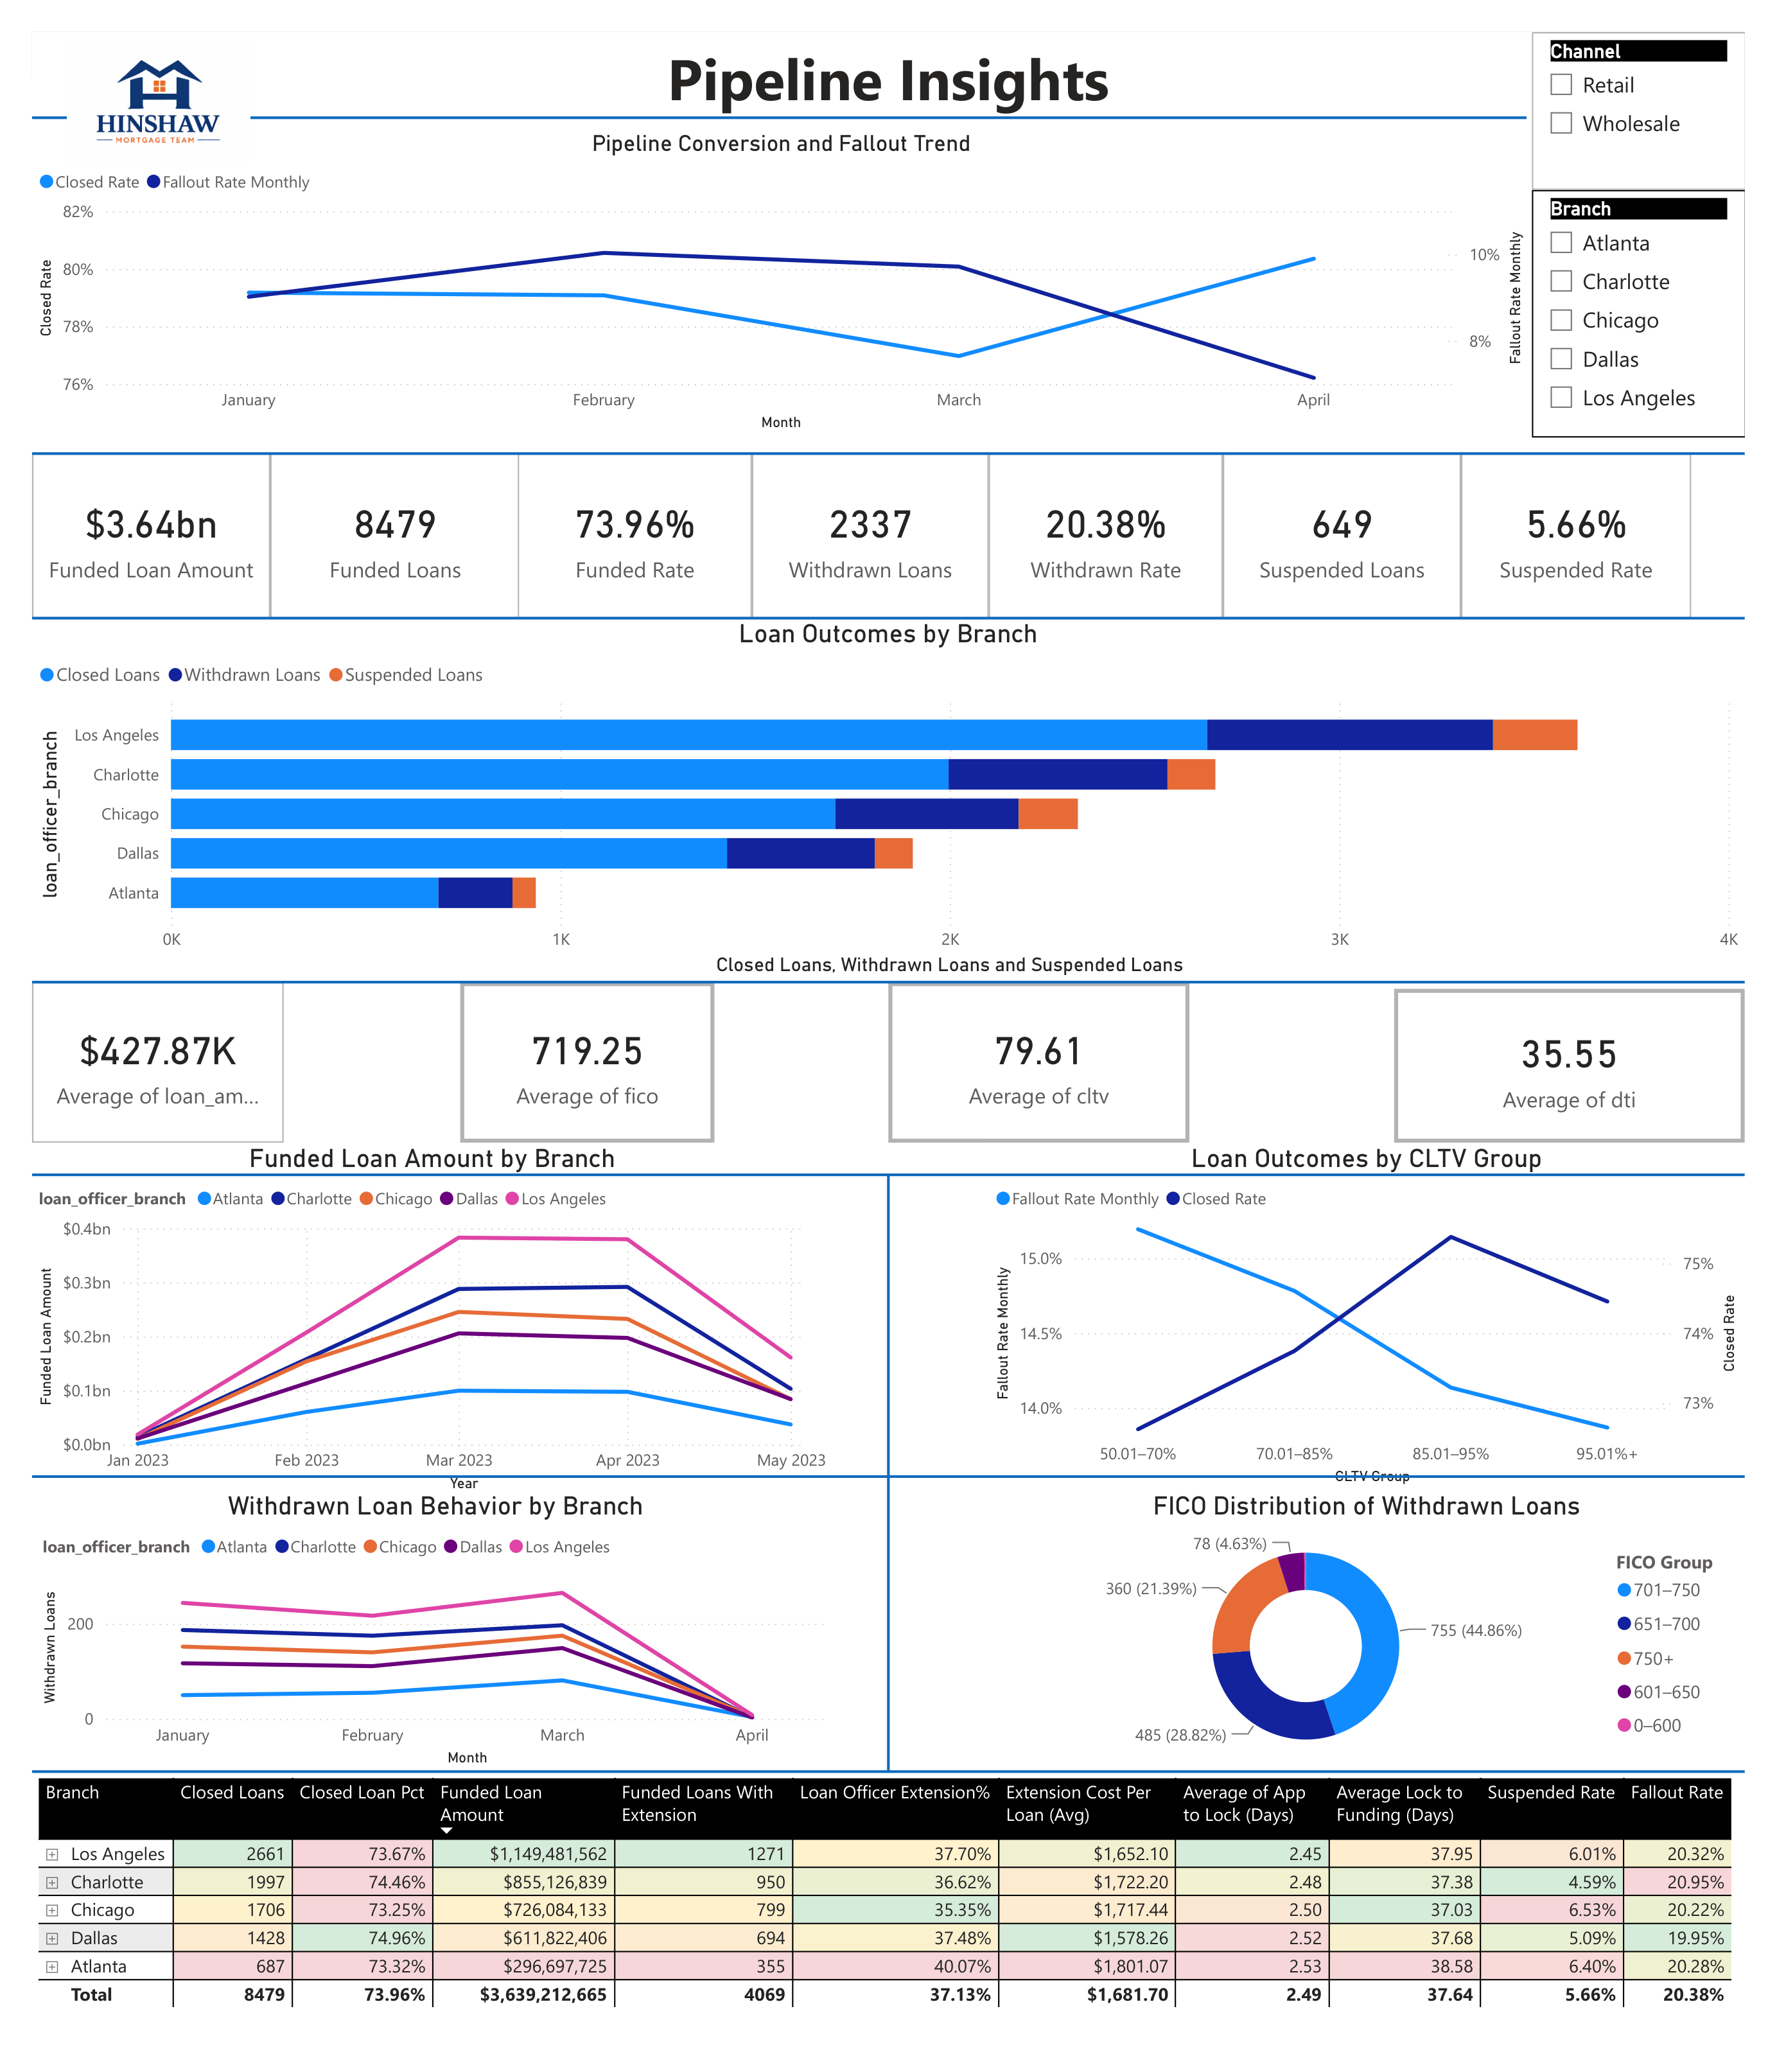

The page's visual inventory and layout, read from the dashboard file:
{"tool":"powerbi","page":{"name":"Pipeline Insights","canvas":[1280,1500],"ordinal":2},"visuals":[{"type":"pivotTable","fields":{"Rows":["public loan_extension_model.loan_officer_branch","public loan_extension_model.loan_officer"],"Values":["public loan_extension_model.Closed Loans","public loan_extension_model.Funded Rate","public loan_extension_model.Funded Loan Amount","public loan_extension_model.Funded Loans With Extension","public loan_extension_model.Loan Officer Extension%","Avg(public loan_extension_model.total_extension_cost)","Avg(public loan_extension_model.Days to Lock)","Avg(public loan_extension_model.Days Lock to Funding)","public loan_extension_model.Suspended Rate","public loan_extension_model.Fallout Rate"]},"box":[0,1300,1280,200],"z":0},{"type":"textbox","box":[0,0,1280.2,80.7],"z":1000},{"type":"card","fields":{"Values":["public loan_extension_model.Closed Loans"]},"box":[177.5,315,187.5,122.5],"z":2000},{"type":"card","fields":{"Values":["public loan_extension_model.Funded Loan Amount"]},"box":[0,315,177.5,122.5],"z":3000},{"type":"card","fields":{"Values":["public loan_extension_model.Funded Rate"]},"box":[362.5,315,175,122.5],"z":4000},{"type":"card","fields":{"Values":["public loan_extension_model.Withdrawn Loans"]},"box":[537.5,315,177.5,122.5],"z":5000},{"type":"card","fields":{"Values":["public loan_extension_model.Fallout Rate"]},"box":[715,315,175,122.5],"z":6000},{"type":"card","fields":{"Values":["public loan_extension_model.Suspended Loans"]},"box":[890,315,177.5,122.5],"z":7000},{"type":"card","fields":{"Values":["public loan_extension_model.Suspended Rate"]},"box":[1067.5,315,172.5,122.5],"z":8000},{"type":"slicer","fields":{"Values":["public loan_extension_model.loan_officer_branch"]},"box":[1120.5,118.2,160.1,184.7],"z":9000},{"type":"slicer","title":"Channel","fields":{"Values":["public loan_extension_model.channel"]},"box":[1120.5,0,160.1,118.2],"z":10000},{"type":"barChart","title":"Loan Outcomes by Branch","fields":{"Category":["public loan_extension_model.loan_officer_branch"],"Y":["public loan_extension_model.Closed Loans","public loan_extension_model.Withdrawn Loans","public loan_extension_model.Suspended Loans"]},"box":[0,437.5,1280,272.5],"z":11000},{"type":"card","fields":{"Values":["Avg(public loan_extension_model.loan_amount)"]},"box":[0,710,187.5,120],"z":12000},{"type":"card","fields":{"Values":["Avg(public loan_extension_model.fico)"]},"box":[320,710,190,120],"z":13000},{"type":"card","fields":{"Values":["Avg(public loan_extension_model.cltv)"]},"box":[640,710,225,120],"z":14000},{"type":"card","fields":{"Values":["Avg(public loan_extension_model.dti)"]},"box":[1017.5,715,262.5,115],"z":15000},{"type":"lineChart","title":"Funded Loan Amount by Branch","fields":{"Y":["public loan_extension_model.Funded Loan Amount"],"Series":["public loan_extension_model.loan_officer_branch"],"Category":["Calendar.Date.Variation.Date Hierarchy.Year","Calendar.Date.Variation.Date Hierarchy.Month"]},"box":[0,830,597.5,265],"z":16000},{"type":"lineChart","title":"Pipeline Conversion and Fallout Trend","fields":{"Category":["public loan_extension_model.Application Month.Variation.Date Hierarchy.Month"],"Y":["Calendar.Closed Rate"],"Y2":["Calendar.Fallout Rate Monthly"]},"box":[0,72.5,1120,230],"z":17000},{"type":"lineChart","title":"Withdrawn Loan Behavior by Branch","fields":{"Category":["public loan_extension_model.Application Month.Variation.Date Hierarchy.Month"],"Y":["public loan_extension_model.Withdrawn Loans"],"Series":["public loan_extension_model.loan_officer_branch"]},"box":[2.5,1090,597.5,210],"z":18000},{"type":"lineChart","title":"Loan Outcomes by CLTV Group","fields":{"Y":["Calendar.Fallout Rate Monthly"],"Y2":["Calendar.Closed Rate"],"Category":["public loan_extension_model.CLTV Group"]},"box":[715,830,565,260],"z":19000},{"type":"donutChart","title":"FICO Distribution of Withdrawn Loans","fields":{"Category":["public loan_extension_model.FICO Group"],"Y":["Calendar.Fallout Loans"]},"box":[715,1090,565,210],"z":20000},{"type":"shape","box":[0,165,1280,300],"z":21000},{"type":"shape","box":[0,1150,1280,300],"z":22000},{"type":"shape","box":[0,940,1280,279],"z":23000},{"type":"shape","box":[0,848,1280,12],"z":24000},{"type":"shape","box":[0,0,1117,128],"z":25000},{"type":"shape","box":[490,854,300,446],"z":26000},{"type":"shape","box":[0,287.5,1280,300],"z":27000},{"type":"shape","box":[0,560,1280,300],"z":28000},{"type":"image","box":[0,0,187.5,97.5],"z":29000}]}

Visuals, with their boxes on the page's 1280x1500 design canvas (x1, y1, x2, y2). These are canvas units, not pixel positions in the 1777x2072 screenshot, which may show the page scaled, cropped or inside an application window:
pivotTable - public loan_extension_model.loan_officer_branch x public loan_extension_model.loan_officer: (left=0, top=1300, right=1280, bottom=1500)
textbox: (left=0, top=0, right=1280, bottom=81)
card - public loan_extension_model.Closed Loans: (left=178, top=315, right=365, bottom=438)
card - public loan_extension_model.Funded Loan Amount: (left=0, top=315, right=178, bottom=438)
card - public loan_extension_model.Funded Rate: (left=362, top=315, right=538, bottom=438)
card - public loan_extension_model.Withdrawn Loans: (left=538, top=315, right=715, bottom=438)
card - public loan_extension_model.Fallout Rate: (left=715, top=315, right=890, bottom=438)
card - public loan_extension_model.Suspended Loans: (left=890, top=315, right=1068, bottom=438)
card - public loan_extension_model.Suspended Rate: (left=1068, top=315, right=1240, bottom=438)
slicer - public loan_extension_model.loan_officer_branch: (left=1120, top=118, right=1281, bottom=303)
"Channel" slicer: (left=1120, top=0, right=1281, bottom=118)
"Loan Outcomes by Branch" barChart: (left=0, top=438, right=1280, bottom=710)
card - Avg(public loan_extension_model.loan_amount): (left=0, top=710, right=188, bottom=830)
card - Avg(public loan_extension_model.fico): (left=320, top=710, right=510, bottom=830)
card - Avg(public loan_extension_model.cltv): (left=640, top=710, right=865, bottom=830)
card - Avg(public loan_extension_model.dti): (left=1018, top=715, right=1280, bottom=830)
"Funded Loan Amount by Branch" lineChart: (left=0, top=830, right=598, bottom=1095)
"Pipeline Conversion and Fallout Trend" lineChart: (left=0, top=72, right=1120, bottom=302)
"Withdrawn Loan Behavior by Branch" lineChart: (left=2, top=1090, right=600, bottom=1300)
"Loan Outcomes by CLTV Group" lineChart: (left=715, top=830, right=1280, bottom=1090)
"FICO Distribution of Withdrawn Loans" donutChart: (left=715, top=1090, right=1280, bottom=1300)
shape: (left=0, top=165, right=1280, bottom=465)
shape: (left=0, top=1150, right=1280, bottom=1450)
shape: (left=0, top=940, right=1280, bottom=1219)
shape: (left=0, top=848, right=1280, bottom=860)
shape: (left=0, top=0, right=1117, bottom=128)
shape: (left=490, top=854, right=790, bottom=1300)
shape: (left=0, top=288, right=1280, bottom=588)
shape: (left=0, top=560, right=1280, bottom=860)
image: (left=0, top=0, right=188, bottom=98)
